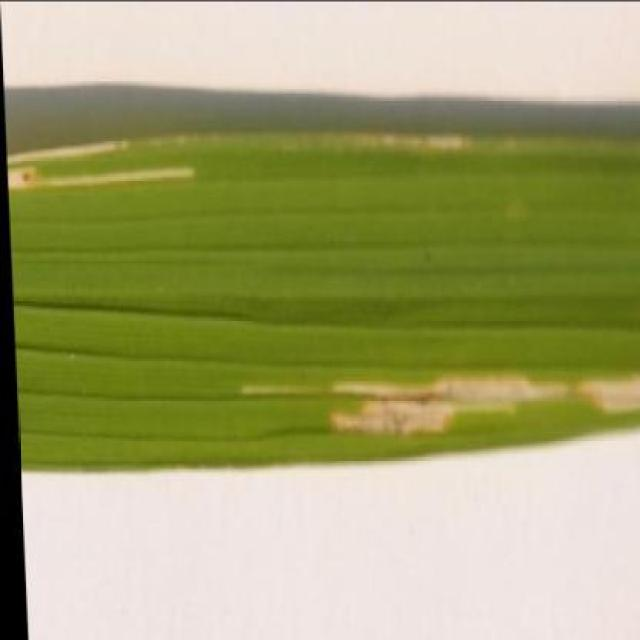Brown_Spot: (7, 43, 640, 490), (8, 121, 221, 282)
